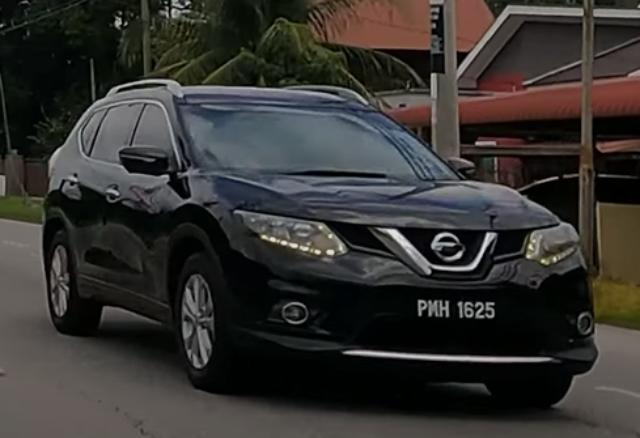License_Plate: (414, 301, 500, 324)
car: (42, 78, 600, 411)
